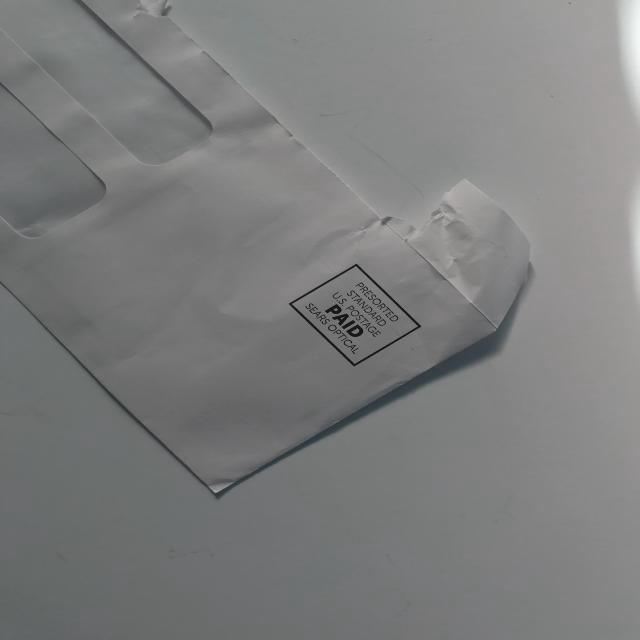paper: (0, 0, 529, 503)
